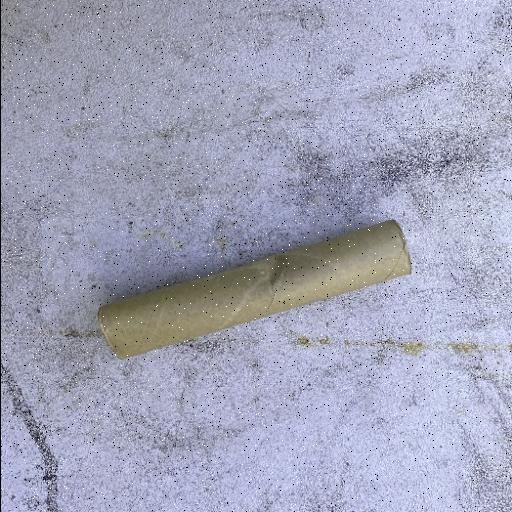Cardboard: (94, 216, 412, 360)
